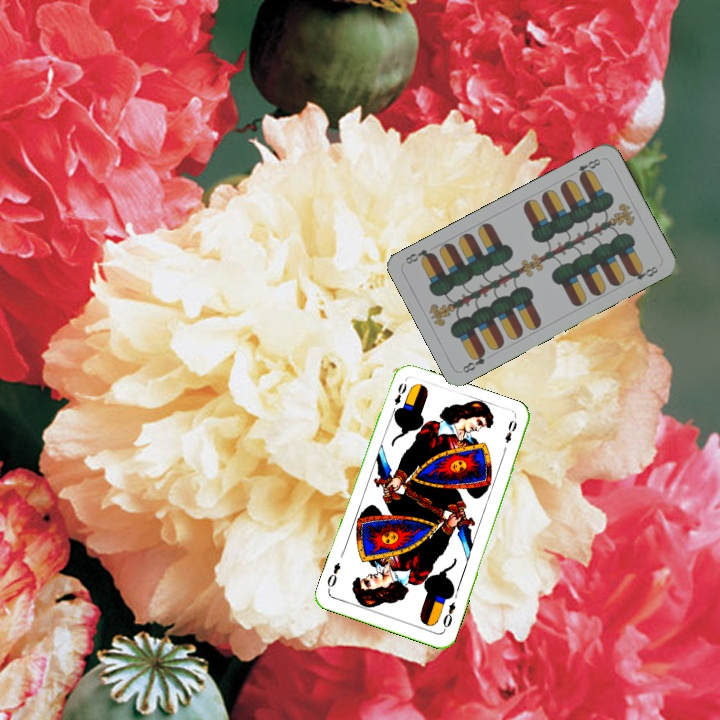E8: (458, 347, 488, 376), (574, 154, 603, 181)
EO: (388, 378, 409, 416), (439, 598, 458, 634)
